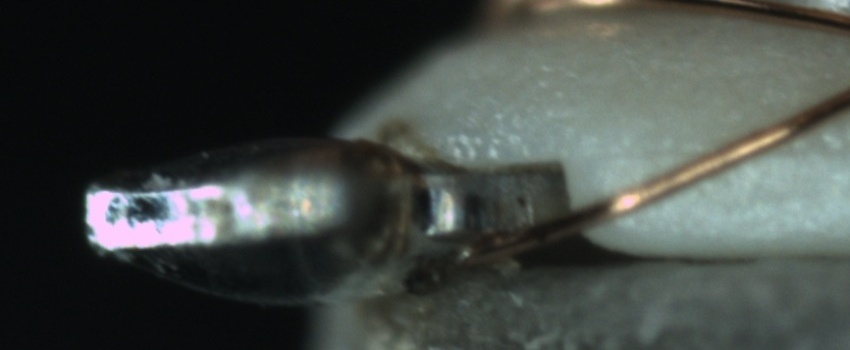DL: (590, 122, 849, 186)
